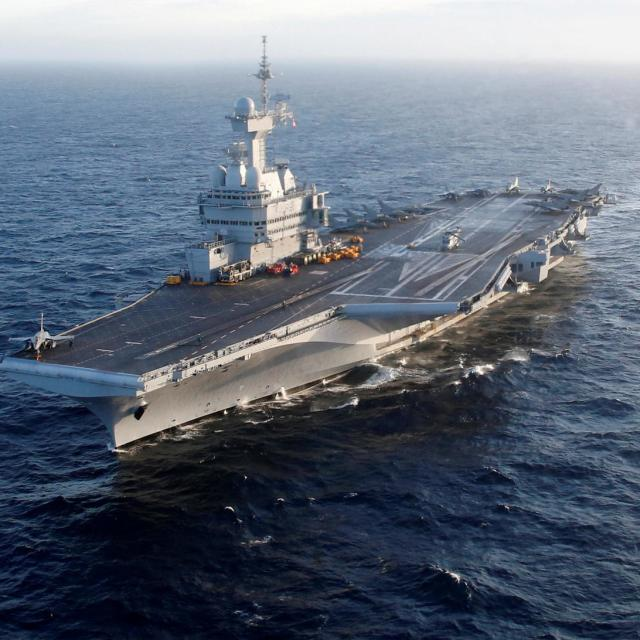Portanaves: (1, 28, 620, 464)
